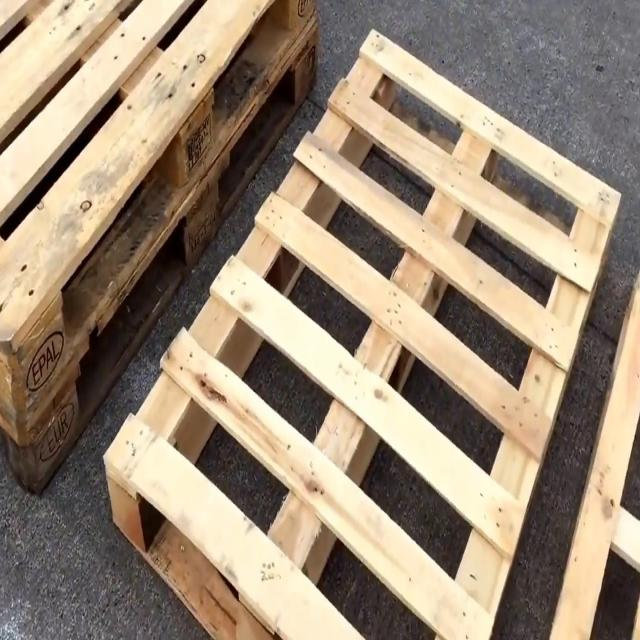Palette: (94, 28, 620, 640), (0, 0, 326, 501), (546, 259, 640, 640)
